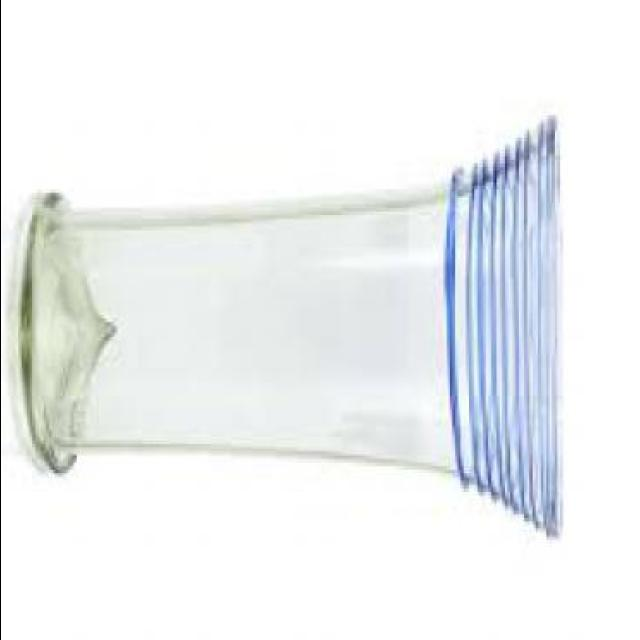kaca: (22, 112, 564, 537)
